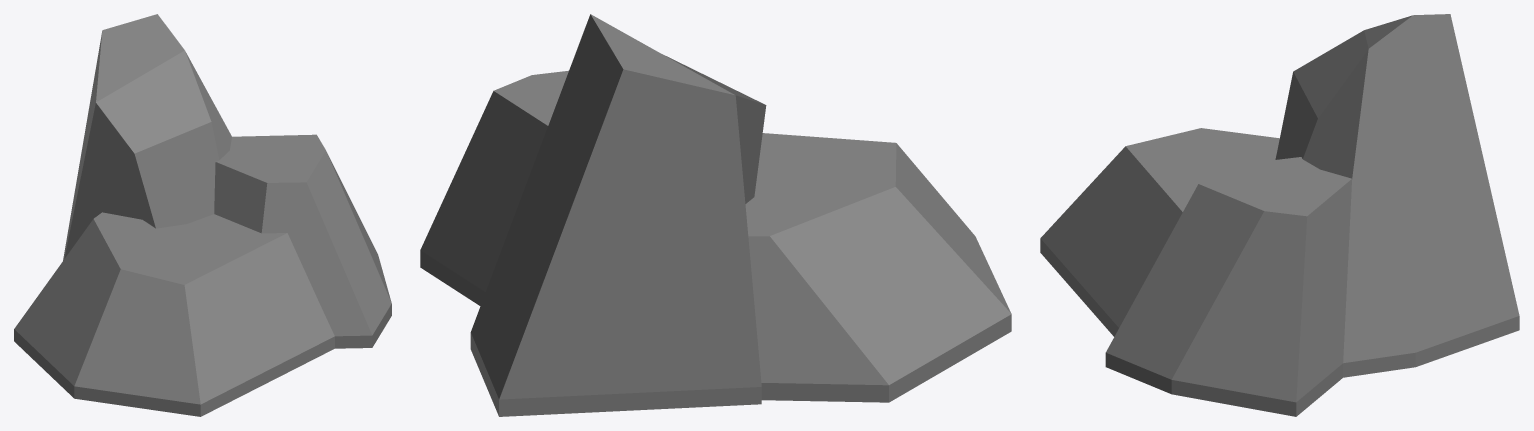
File: Stone_3.fbx
The picture shows the model from 3 angles, left to right: view 1: azimuth 30°, elevation 25°; view 2: azimuth 150°, elevation 25°; view 3: azimuth 270°, elevation 25°; orthographic projection. The views are drawn at different scales.
Parts seen in each view (by area): view 1: Cube; view 2: Cube; view 3: Cube.
Part boxes in pixels (x1,y1,x2,y2): Cube: (14, 14, 391, 416); Cube: (420, 14, 1011, 416); Cube: (1040, 14, 1519, 416).
Size of the model in its own units: 101 by 68.67 by 98.13.
